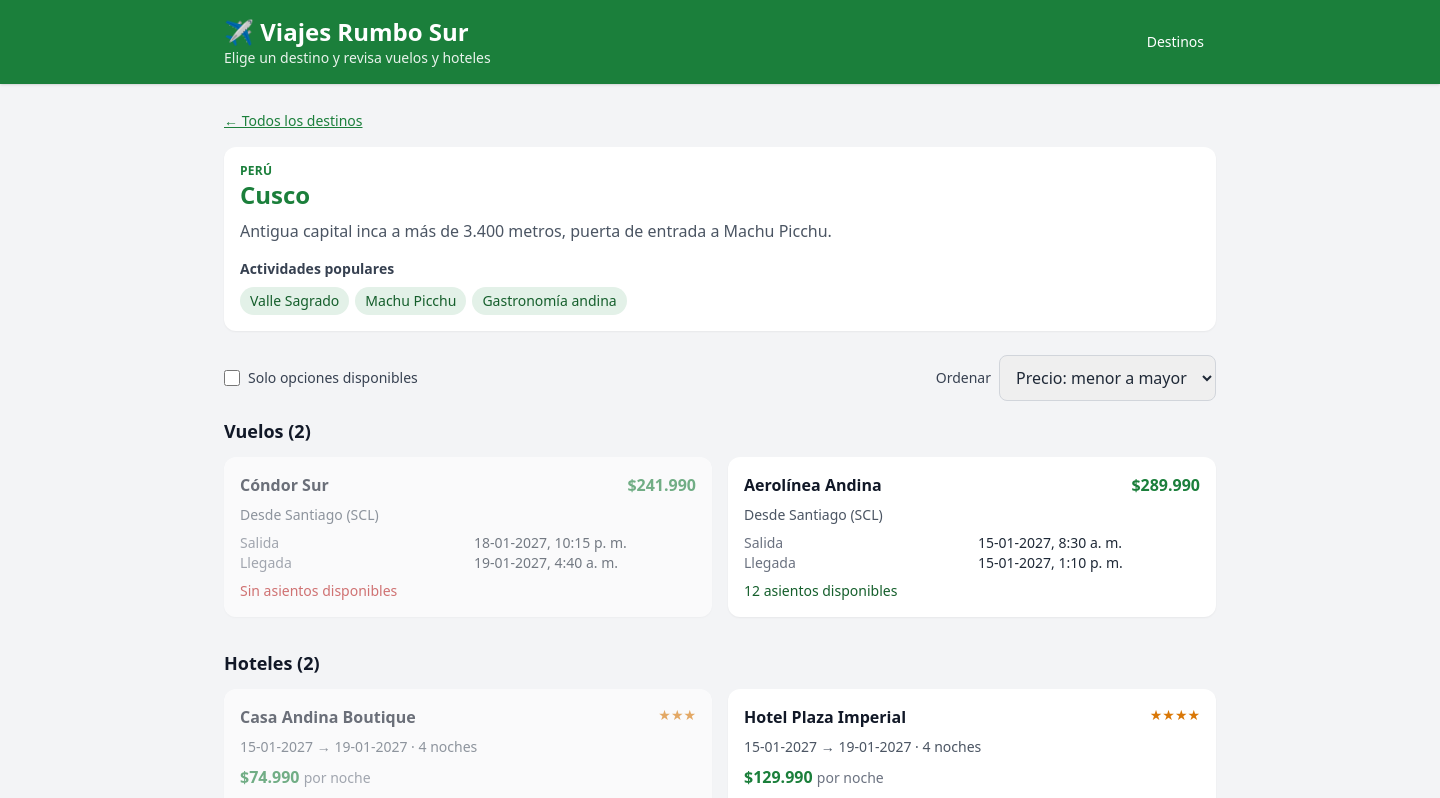
Página de un destino (REST + GraphQL) › 'Solo opciones disponibles' quita vuelos y hoteles agotados
The image size is (1440, 798).
Check: the heading "Cóndor Sur" is shown, box [240,473,329,497]
Click the checkbox labelled "Solo opciones disponibles". click: click(232, 378)
box: [224,370,240,386]
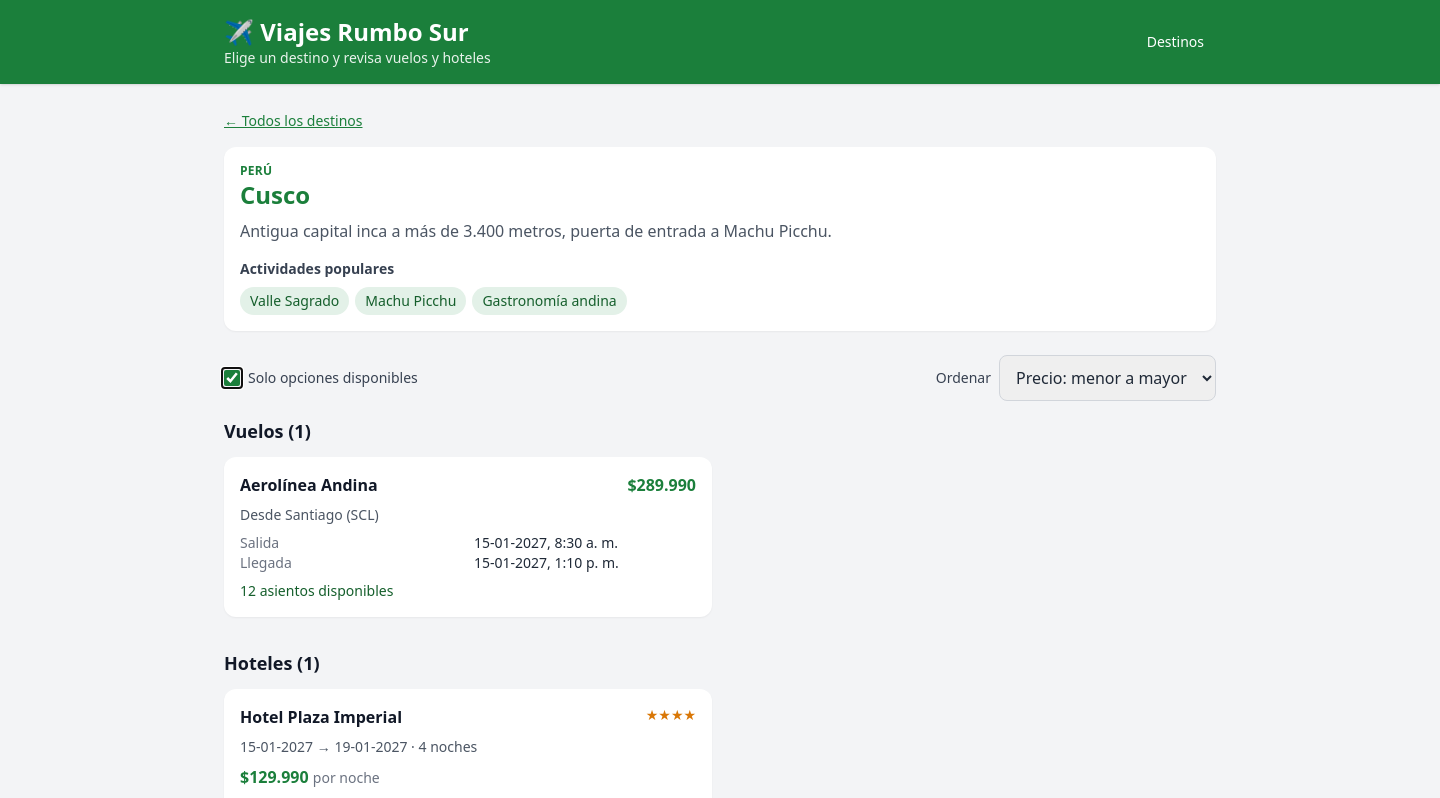
Check: the heading "Aerolínea Andina" is shown, box [240,473,378,497]
Check: the heading "Cóndor Sur" is gone
Check: the heading "Casa Andina Boutique" is gone
